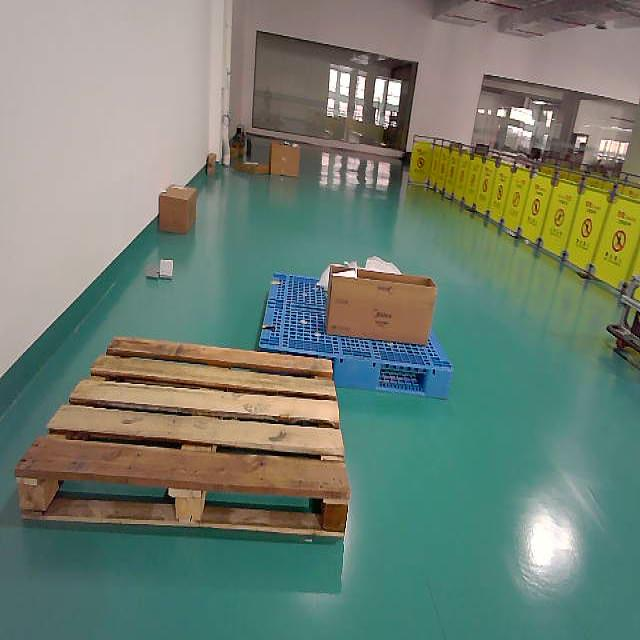euro: (16, 337, 350, 541)
